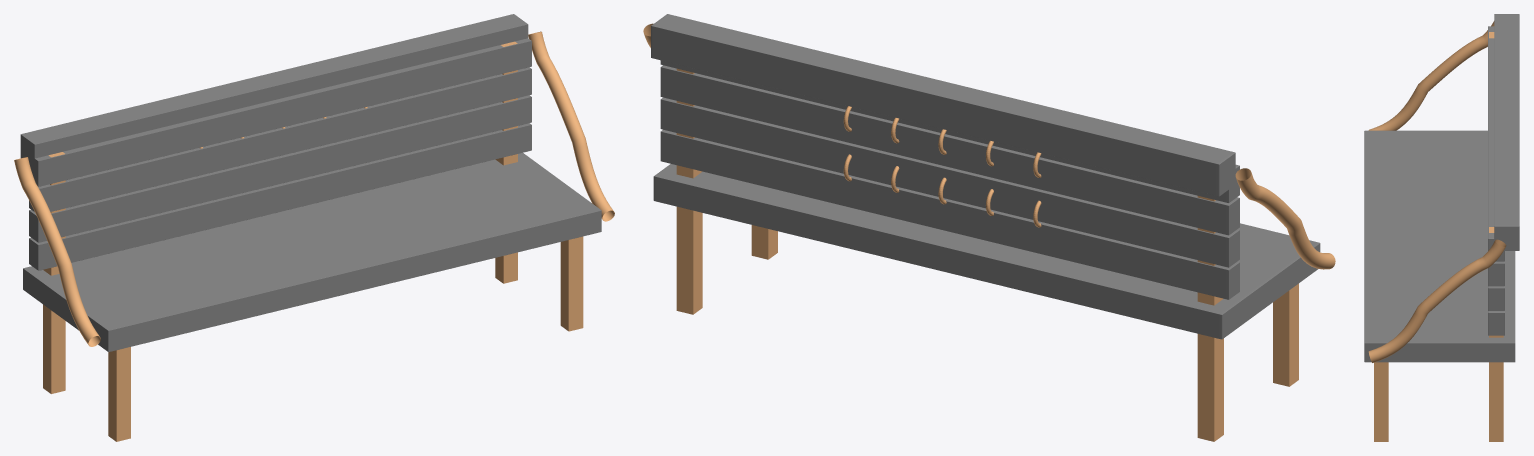
The picture shows the model from 3 angles, left to right: view 1: azimuth 30°, elevation 25°; view 2: azimuth 150°, elevation 25°; view 3: azimuth 270°, elevation 25°; orthographic projection. The views are drawn at different scales.
Visible parts, largest first — view 1: Cube, Cube.009, Cube.005, Cube.006, Cube.007, Cube.008, Cube.001, Cube.003, Cube.002, Cube.004, BézierCurve, BézierCurve.001 (+4 smaller); view 2: Cube.005, Cube.004, Cube.006, Cube.007, Cube.008, Cube.012, Cube.013, Cube.009, Cube.010, BézierCurve, Cube, Cube.001 (+3 smaller); view 3: Cube, Cube.002, Cube.003, Cube.001, Cube.005, Cube.004, BézierCurve.001, BézierCurve, Cube.009, Cube.013, Cube.011, Cube.006 (+2 smaller).
Boxes of the visible parts, x1,y1,x2,y2 form: Cube: [89, 198, 601, 351]; Cube.009: [29, 38, 531, 186]; Cube.005: [20, 14, 528, 171]; Cube.006: [29, 123, 531, 270]; Cube.007: [29, 95, 531, 242]; Cube.008: [29, 67, 531, 211]; Cube.001: [73, 184, 584, 330]; Cube.003: [39, 160, 548, 315]; Cube.002: [56, 172, 565, 325]; Cube.004: [23, 152, 533, 302]; BézierCurve: [14, 157, 100, 346]; BézierCurve.001: [528, 31, 614, 221]; Cube.005: [651, 14, 1235, 196]; Cube.004: [653, 164, 1243, 339]; Cube.006: [660, 129, 1239, 299]; Cube.007: [660, 97, 1239, 267]; Cube.008: [660, 65, 1239, 235]; Cube.012: [1197, 196, 1223, 441]; Cube.013: [676, 68, 702, 314]; Cube.009: [660, 60, 1239, 202]; Cube.010: [1273, 283, 1298, 386]; BézierCurve: [1235, 168, 1335, 269]; Cube: [1237, 223, 1320, 282]; Cube.001: [1237, 244, 1299, 296]; Cube: [1364, 130, 1397, 362]; Cube.002: [1423, 130, 1456, 362]; Cube.003: [1452, 130, 1485, 362]; Cube.001: [1394, 130, 1426, 362]; Cube.005: [1494, 14, 1519, 250]; Cube.004: [1482, 130, 1515, 362]; BézierCurve.001: [1368, 239, 1506, 362]; BézierCurve: [1368, 21, 1494, 130]; Cube.009: [1488, 26, 1504, 261]; Cube.013: [1489, 227, 1503, 441]; Cube.011: [1374, 362, 1388, 441]; Cube.006: [1488, 311, 1504, 335].
Bounding box in the file's own units: 2.56 × 1.17 × 0.74.
